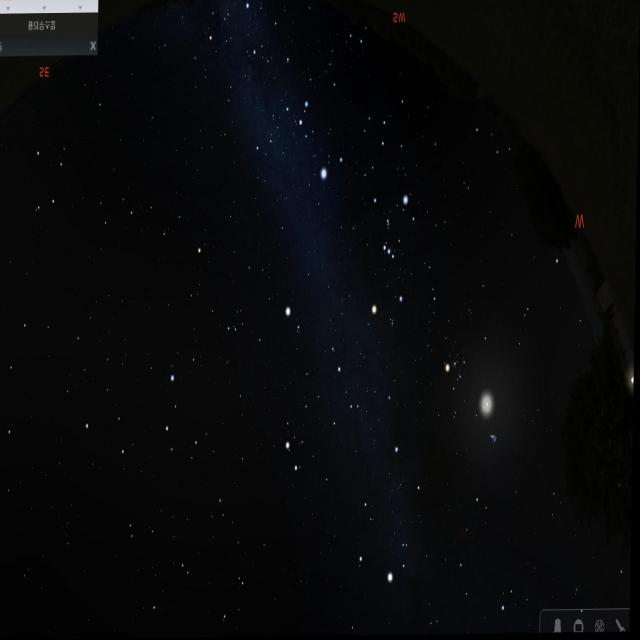canis_major: (296, 88, 354, 185)
canis_minor: (278, 293, 313, 352)
gemini: (280, 338, 379, 489)
leo: (74, 359, 213, 493)
moon: (468, 386, 502, 446)
orion: (362, 193, 418, 325)
pleiades: (488, 419, 505, 455)
taurus: (438, 319, 513, 482)
